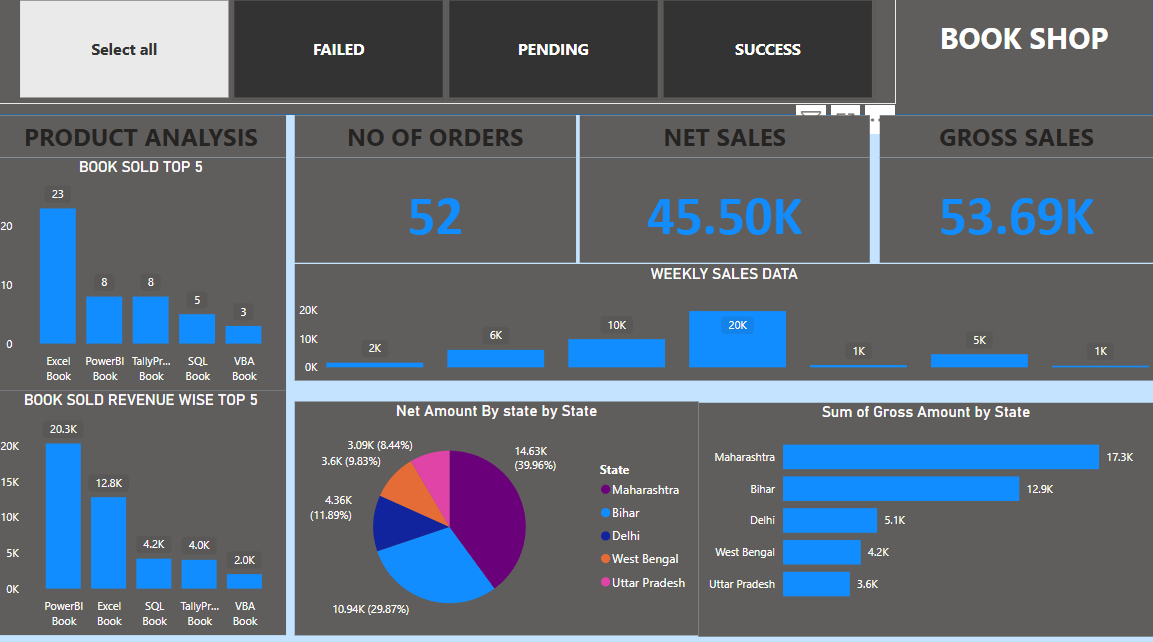

The page's visual inventory and layout, read from the dashboard file:
{"tool":"powerbi","page":{"name":"Page 1","canvas":[1280,720],"ordinal":0},"visuals":[{"type":"shape","box":[0,0,1270.7,133.1],"z":0},{"type":"slicer","fields":{"Values":["7 Days Books Sales Report File.Payment Status"]},"box":[0,0,988,120.8],"z":1000},{"type":"textbox","box":[0,133.1,318.4,46.7],"z":2000},{"type":"textbox","box":[328,133.1,308.7,46.7],"z":3000},{"type":"textbox","box":[640.8,133.1,318.4,46.7],"z":4000},{"type":"textbox","box":[970.2,133.1,300.5,46.7],"z":5000},{"type":"clusteredColumnChart","title":"BOOK SOLD TOP 5","fields":{"Category":["7 Days Books Sales Report File.Books"],"Y":["CountNonNull(7 Days Books Sales Report File.Books)"]},"box":[0,179.8,318.4,255.2],"z":6000},{"type":"clusteredColumnChart","title":"BOOK SOLD REVENUE WISE TOP 5","fields":{"Category":["7 Days Books Sales Report File.Books"],"Y":["Sum(7 Days Books Sales Report File.Net Amount)"]},"box":[0,435,318.4,269],"z":7000},{"type":"clusteredColumnChart","title":"WEEKLY SALES DATA","fields":{"Category":["7 Days Books Sales Report File.Order Date.Variation.Date Hierarchy.Day"],"Y":["Sum(7 Days Books Sales Report File.Net Amount)"]},"box":[328,296.4,942.7,127.6],"z":8000},{"type":"card","title":"NO OF TRANSACTION","fields":{"Values":["CountNonNull(7 Days Books Sales Report File.OrderId)"]},"box":[328,179.8,308.7,115.3],"z":9000},{"type":"card","title":"NO OF TRANSACTION","fields":{"Values":["Sum(7 Days Books Sales Report File.Net Amount)"]},"box":[640.8,179.8,318.4,115.3],"z":10000},{"type":"card","title":"NO OF TRANSACTION","fields":{"Values":["Sum(7 Days Books Sales Report File.Gross Amount)"]},"box":[970.2,179.8,300.5,115.3],"z":11000},{"type":"pieChart","fields":{"Category":["7 Days Books Sales Report File.State"],"Y":["Sum(7 Days Books Sales Report File.Net Amount)"]},"box":[328,447.3,443.2,256.6],"z":12000},{"type":"clusteredBarChart","fields":{"Category":["7 Days Books Sales Report File.State"],"Y":["Sum(7 Days Books Sales Report File.Gross Amount)"]},"box":[771.2,448.7,499.5,256.6],"z":13000},{"type":"textbox","box":[970.2,13.7,299.1,96.1],"z":13001}]}

Visuals, with their boxes in screenshot pixels (x1, y1, x2, y2), scaled from the page's 1280x720 canvas onto the 1153x642 screenshot:
shape: box=[0, 0, 1145, 119]
slicer - 7 Days Books Sales Report File.Payment Status: box=[0, 0, 890, 108]
textbox: box=[0, 119, 287, 160]
textbox: box=[295, 119, 574, 160]
textbox: box=[577, 119, 864, 160]
textbox: box=[874, 119, 1145, 160]
"BOOK SOLD TOP 5" clusteredColumnChart: box=[0, 160, 287, 388]
"BOOK SOLD REVENUE WISE TOP 5" clusteredColumnChart: box=[0, 388, 287, 628]
"WEEKLY SALES DATA" clusteredColumnChart: box=[295, 264, 1145, 378]
"NO OF TRANSACTION" card: box=[295, 160, 574, 263]
"NO OF TRANSACTION" card: box=[577, 160, 864, 263]
"NO OF TRANSACTION" card: box=[874, 160, 1145, 263]
pieChart - 7 Days Books Sales Report File.State x Sum(7 Days Books Sales Report File.Net Amount): box=[295, 399, 695, 628]
clusteredBarChart - 7 Days Books Sales Report File.State x Sum(7 Days Books Sales Report File.Gross Amount): box=[695, 400, 1145, 629]
textbox: box=[874, 12, 1143, 98]
